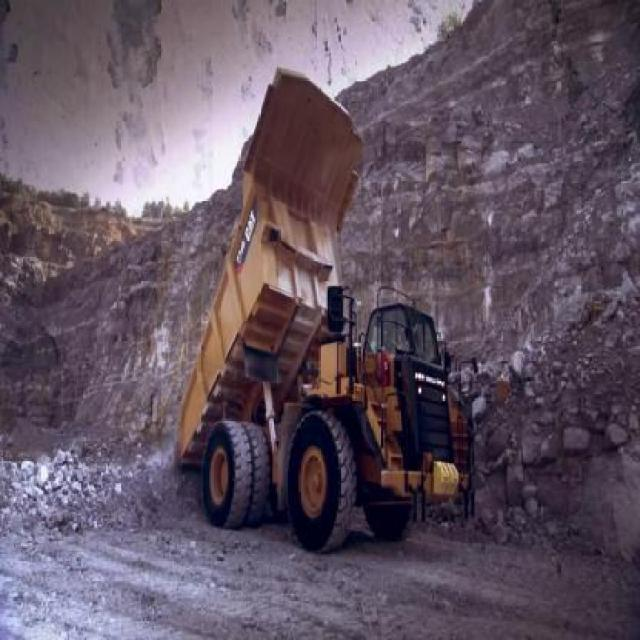Dump Truck: (153, 65, 469, 549)
